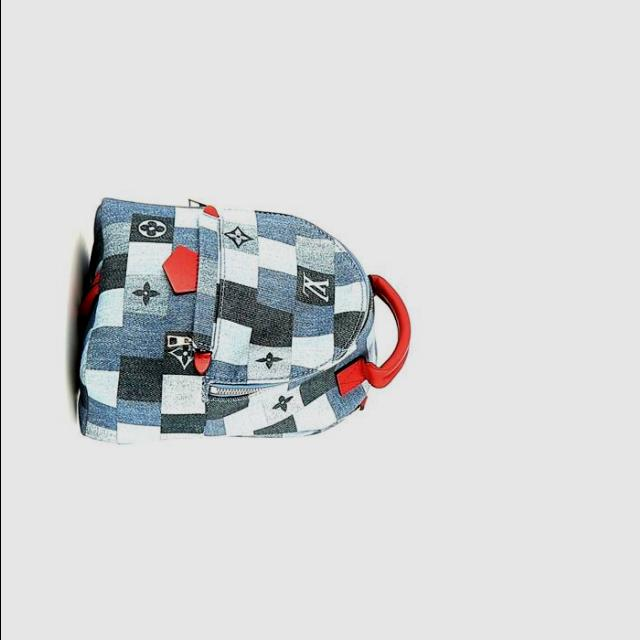backpack: (77, 198, 413, 445)
